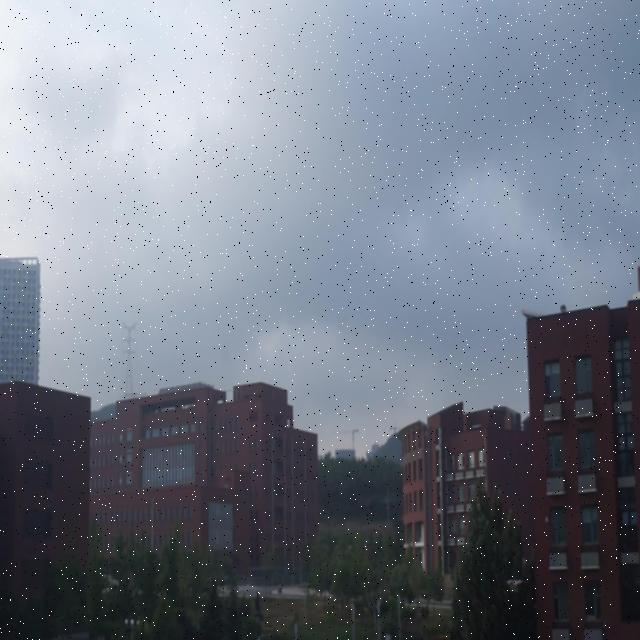UAV: (506, 579, 524, 592)
